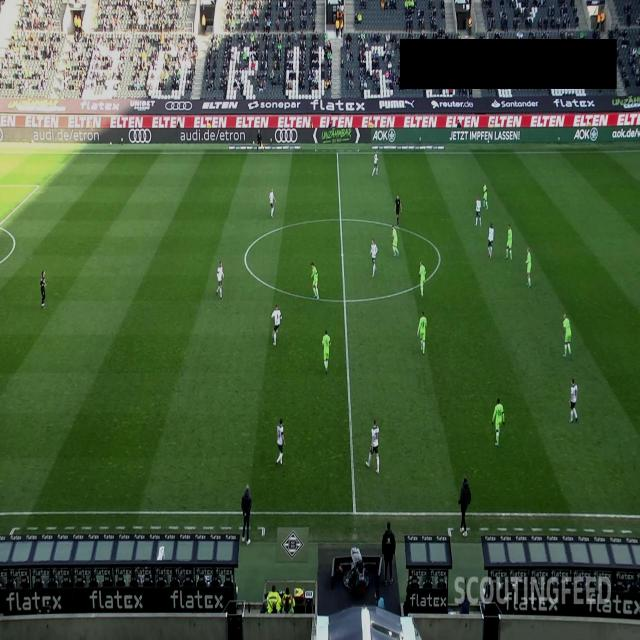goalkeeper: (40, 270, 46, 310)
player: (365, 419, 380, 474), (492, 397, 504, 447), (276, 418, 286, 466), (271, 304, 282, 346), (562, 313, 572, 358), (568, 378, 578, 423), (417, 310, 427, 355), (322, 329, 331, 375), (310, 262, 320, 300), (390, 224, 400, 258), (524, 246, 532, 288), (370, 238, 378, 278), (418, 261, 426, 299), (505, 223, 513, 260), (217, 261, 224, 300), (474, 194, 482, 226), (269, 186, 277, 218), (488, 222, 494, 258), (482, 182, 488, 210), (372, 152, 378, 178)
referee: (394, 194, 402, 226), (256, 129, 264, 153)
